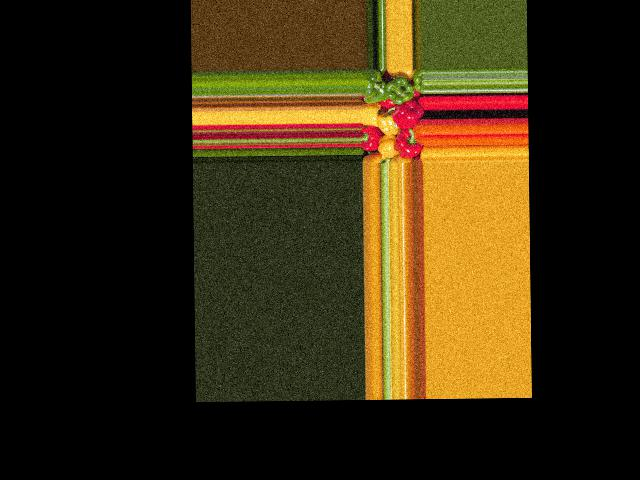bell_pepper: (409, 68, 424, 94)
